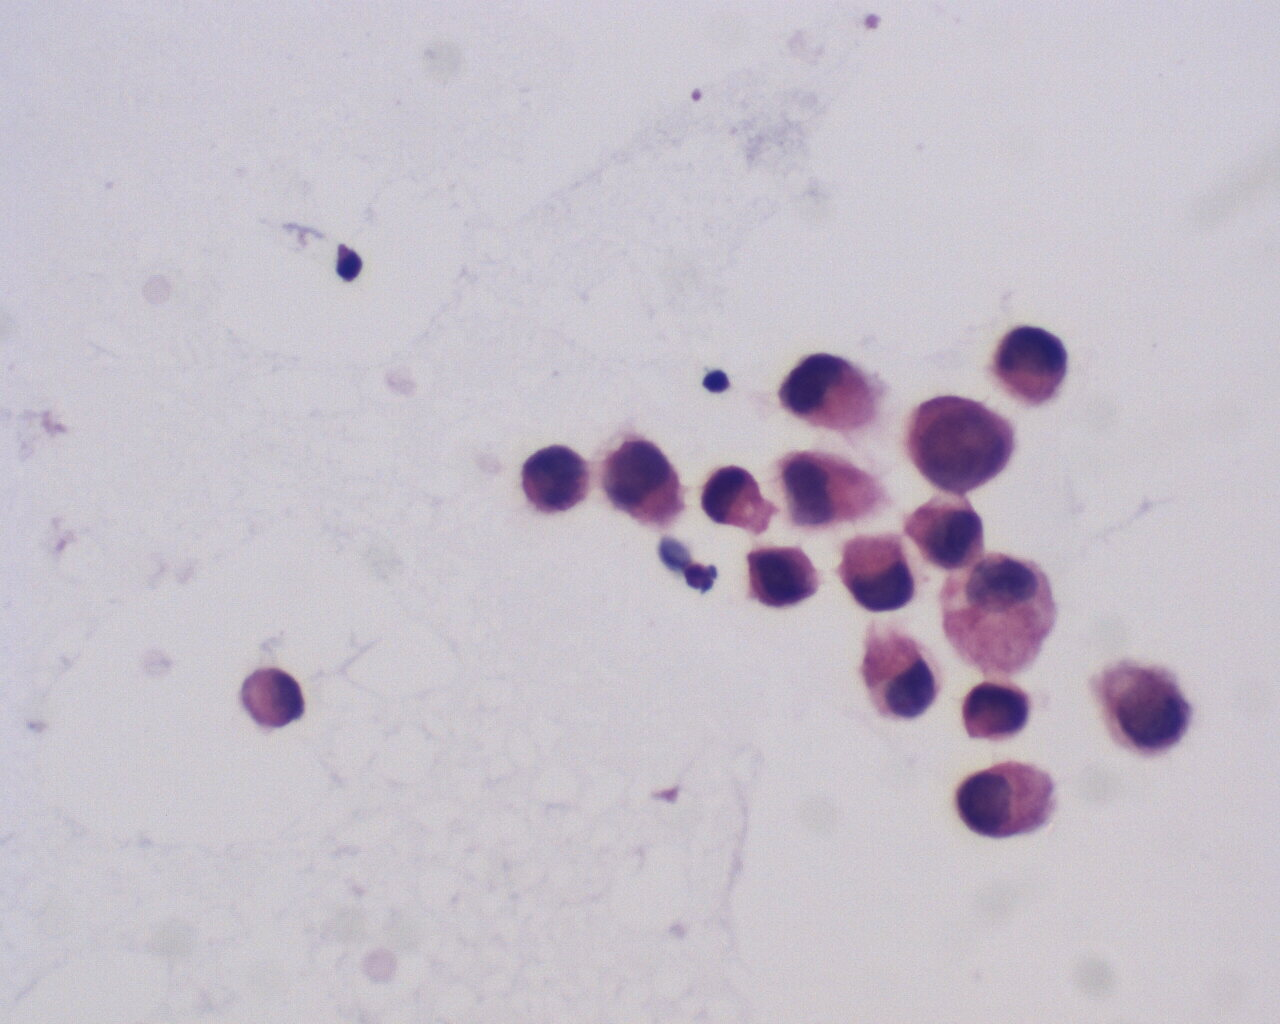ab: (908, 394, 1021, 494), (955, 754, 1067, 848), (1101, 660, 1201, 762), (598, 430, 684, 530), (987, 315, 1077, 408), (830, 527, 920, 614), (906, 487, 993, 573), (513, 437, 591, 518), (744, 540, 824, 616), (957, 677, 1035, 747)
histo: (948, 553, 1066, 678)
